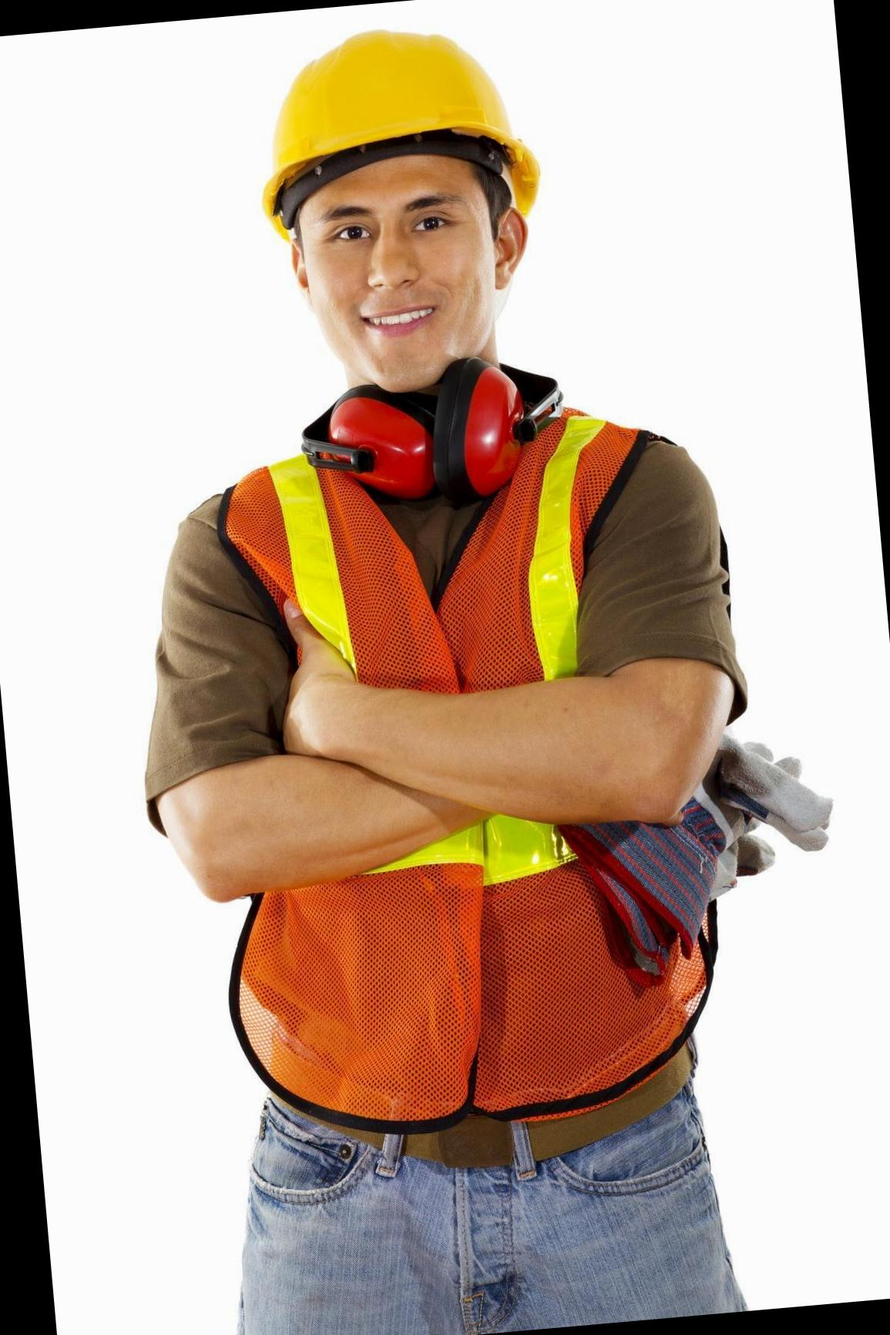helmet: (256, 28, 534, 203)
person: (89, 0, 798, 1335)
